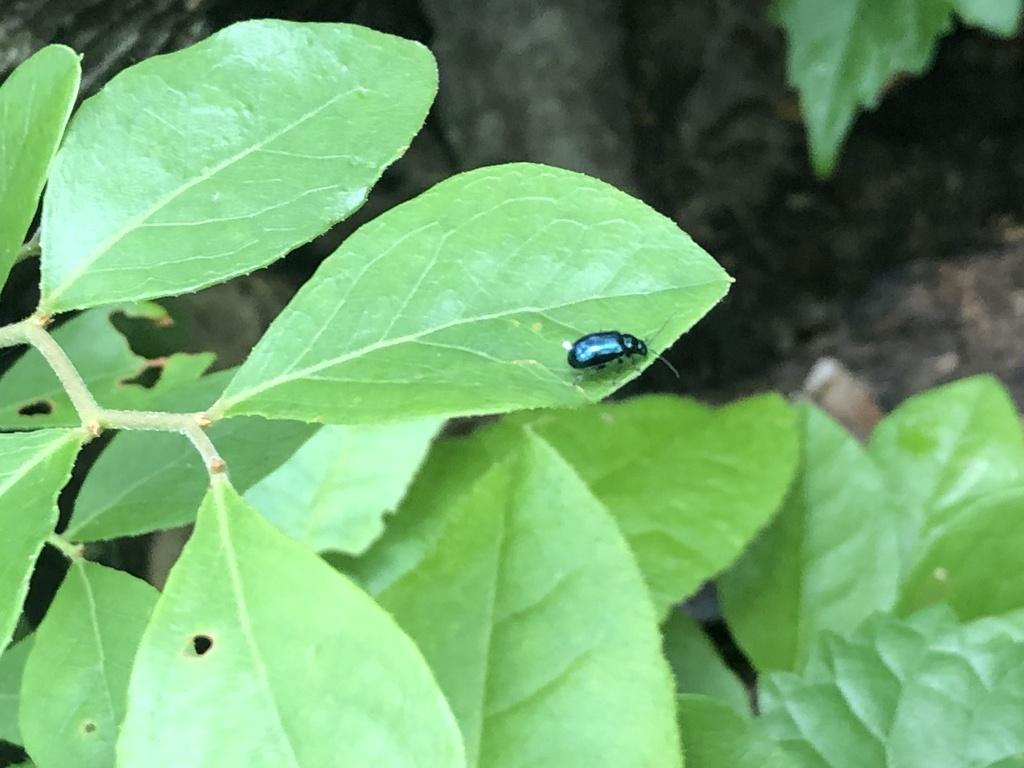flea_beetle: (551, 303, 701, 399)
